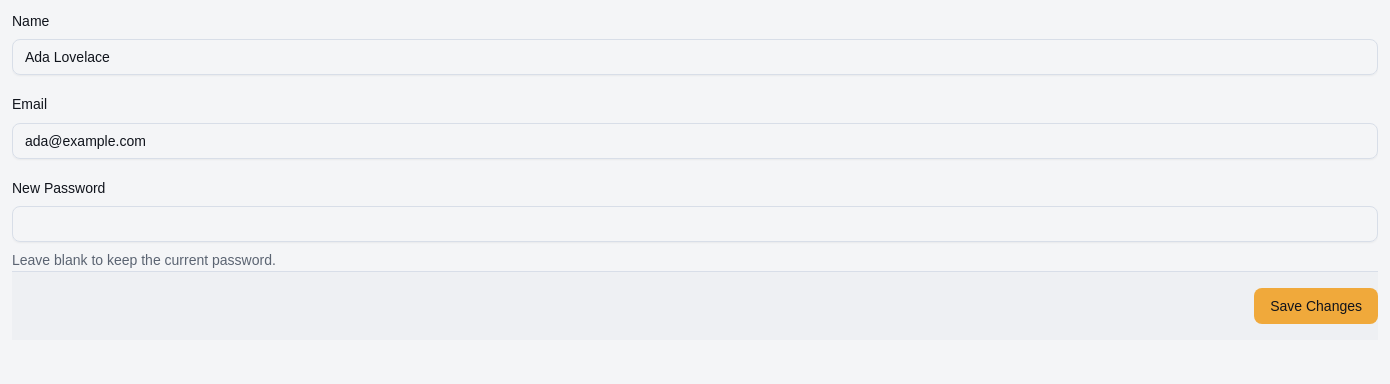
Test: EditUserForm › shows the server error message and keeps the form open when submission fails
Click the button "Save Changes".
click(1316, 306)  # box [1254, 288, 1378, 324]
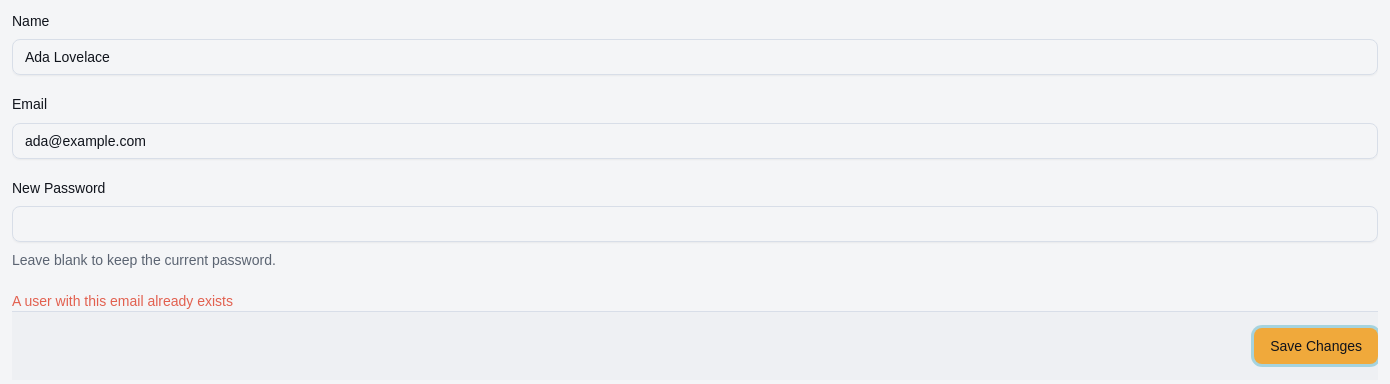
Check: the text "A user with this email already exists" is shown, box [12, 293, 233, 309]
